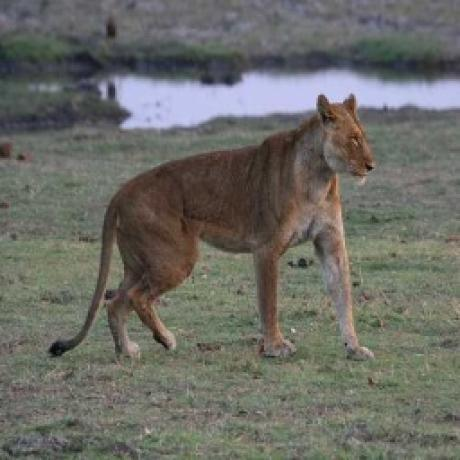Lion: (42, 89, 380, 363)
